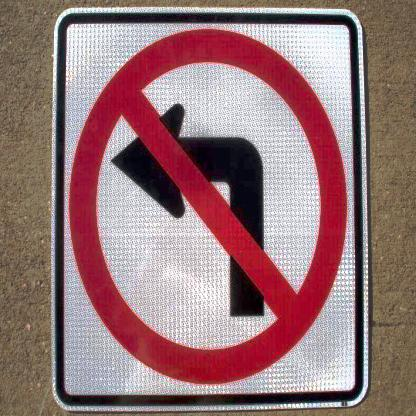No left turn: (66, 27, 356, 397)
